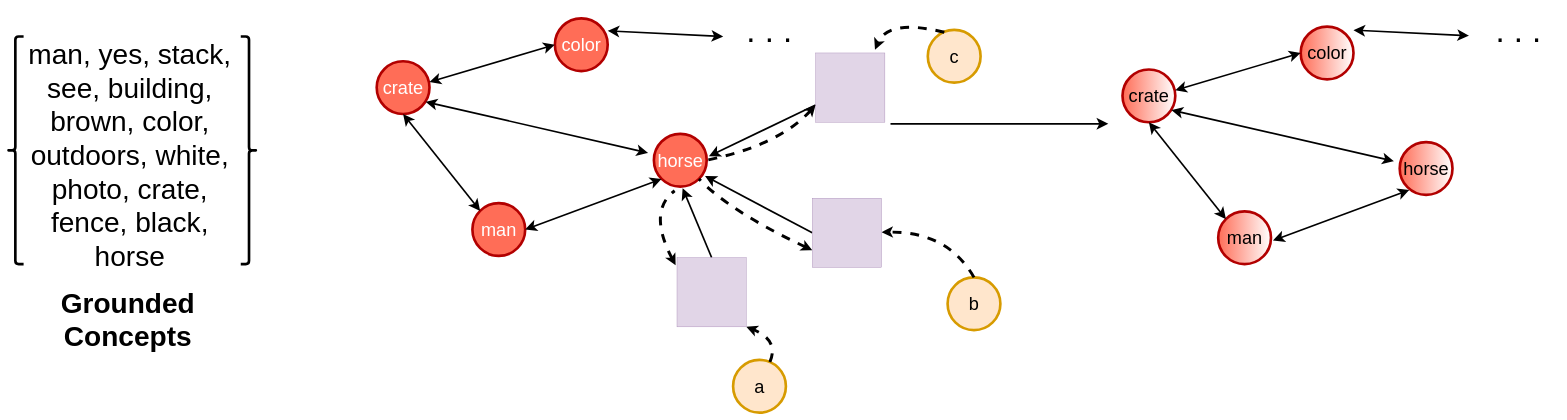
The diagram is 1567 pixels wide and 420 high, and some of its shapes have lost their labels. The centre of each missing label's shape, as x and y in pixels:
"m horse_a" goes at [711,292].
"m horse_b" goes at [847,232].
"m horse_c" goes at [850,87].
